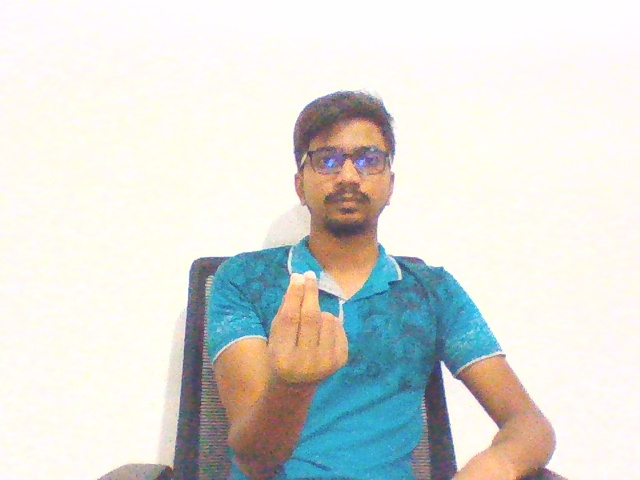dog: (244, 255, 372, 406)
